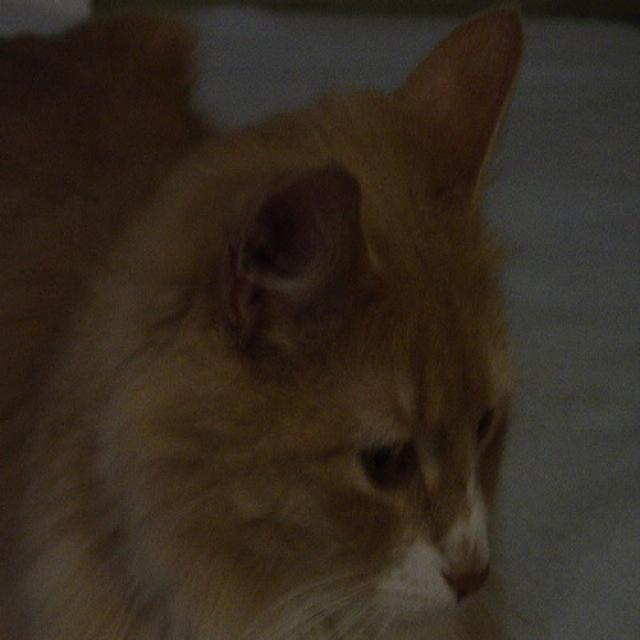Cat: (0, 12, 547, 640)
